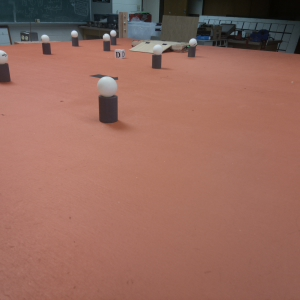obstacle: (97, 76, 117, 121), (1, 50, 9, 84), (41, 35, 51, 56), (152, 44, 161, 66), (102, 33, 111, 52), (189, 39, 197, 58), (72, 30, 79, 47), (109, 29, 116, 44)
slope: (133, 40, 169, 55)
